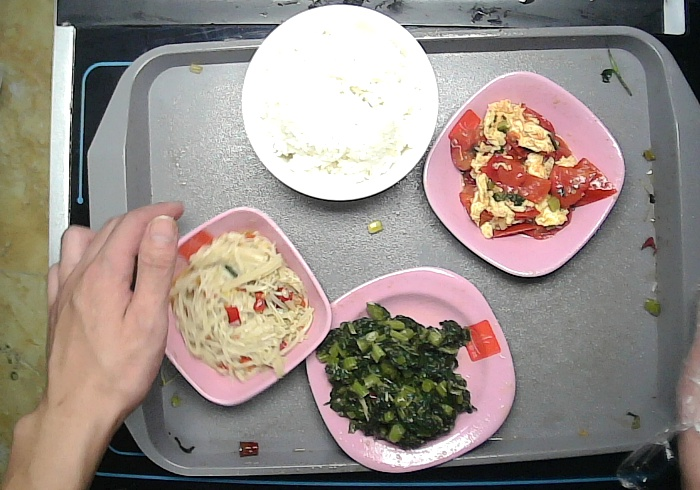SHKJ-Fan_Wan: (241, 4, 441, 213)
SHKJ-Fen_Se_Cai_Die: (424, 73, 630, 280)
SHKJ-Fen_Se_Si_Fang_Cai_Die: (306, 268, 516, 474)
SHKJ-Fen_Se_Xiao_Fang_Die: (143, 207, 333, 402)
